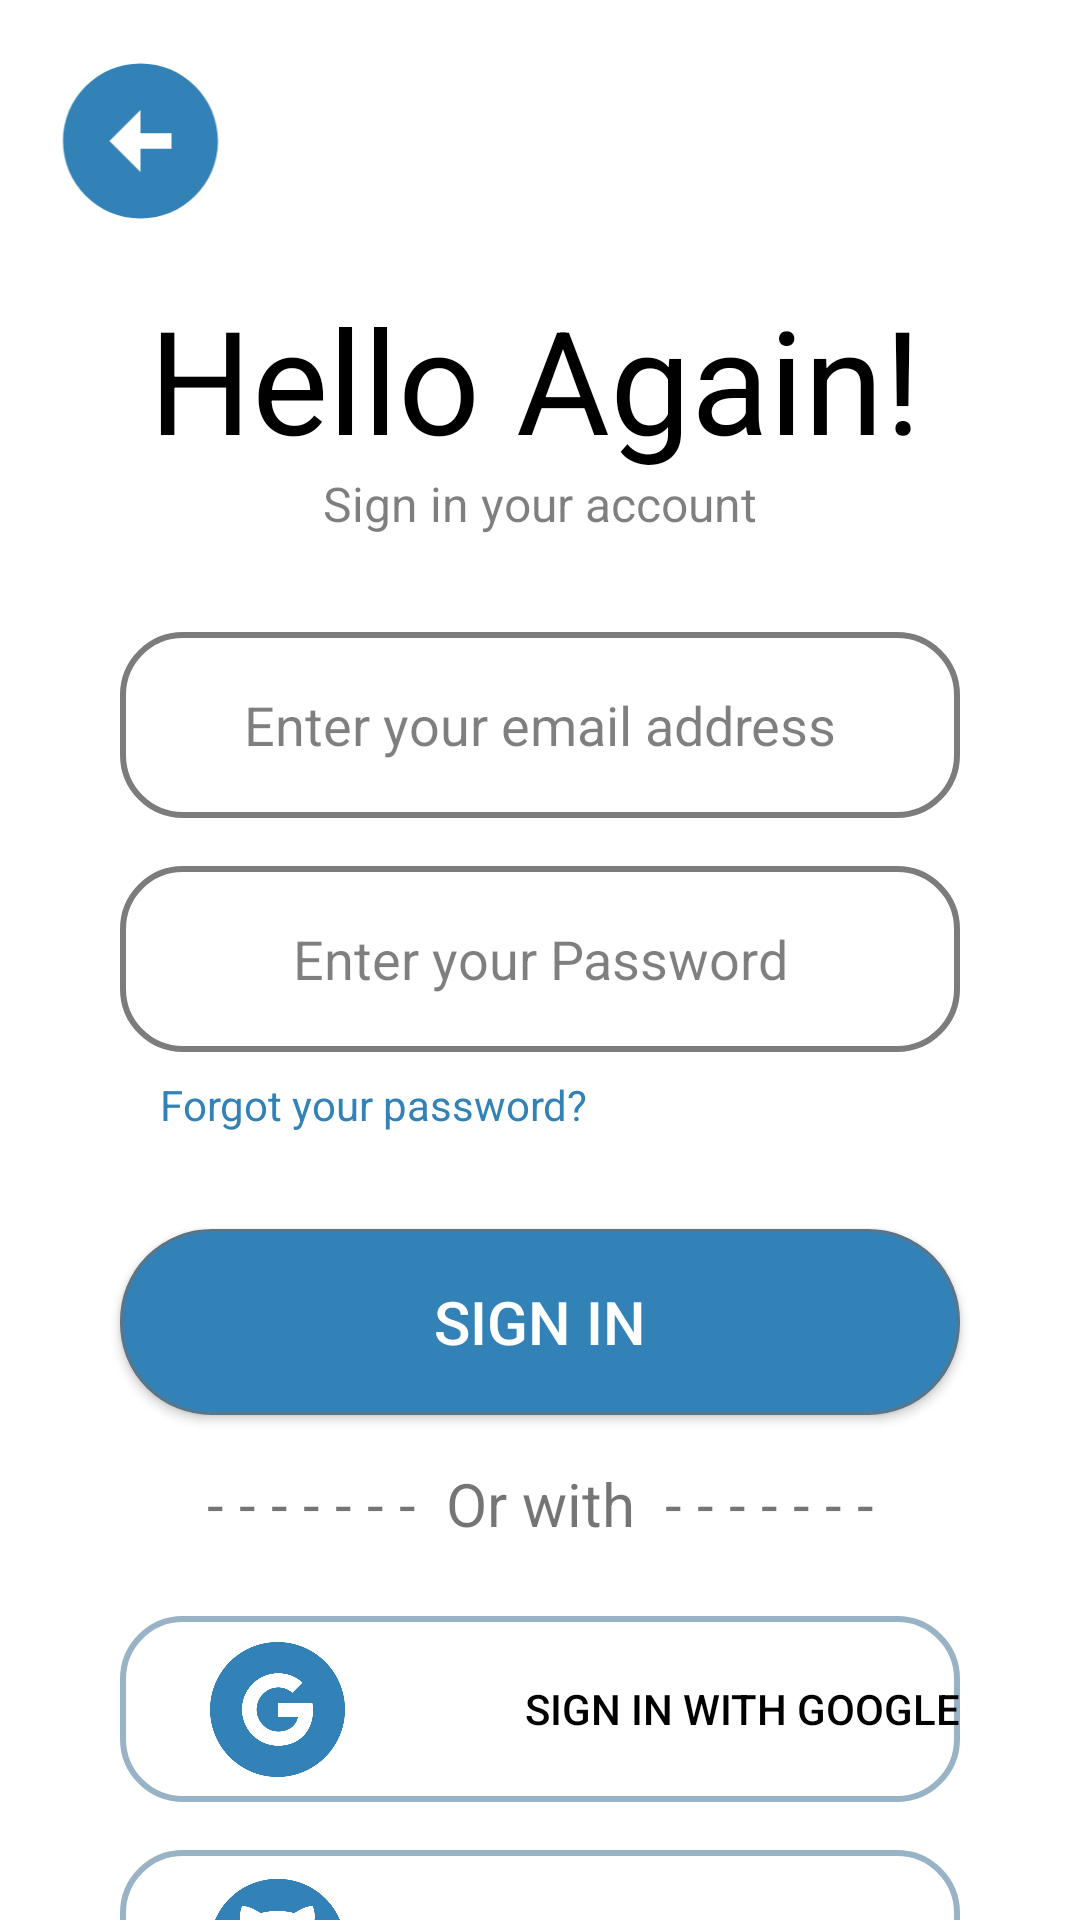

Screen size 1080px x 1920px. Icon name, then its center in pixels as [x,y]:
arrow circle left: [140,141]
